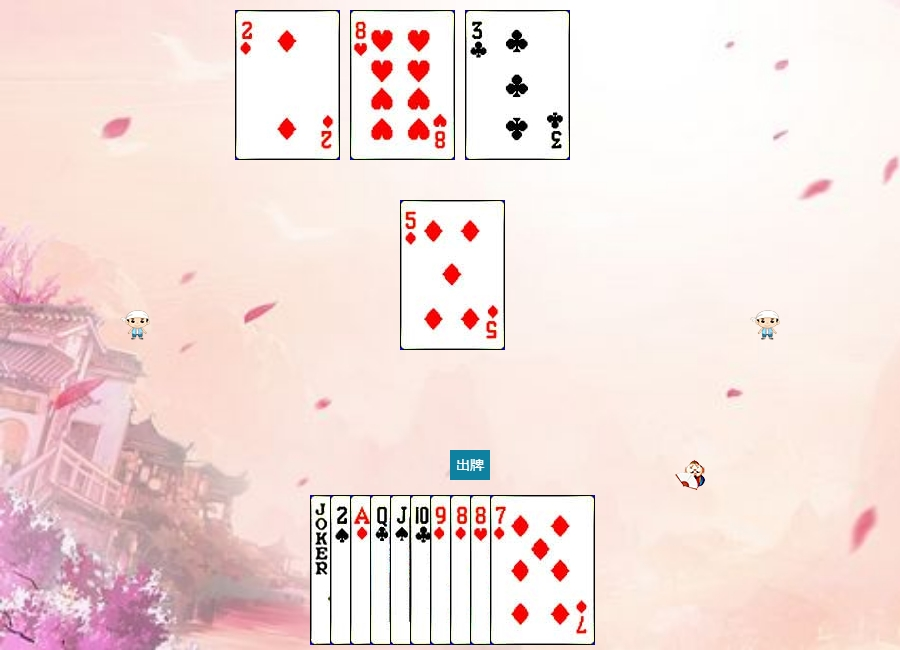10~2: (410, 495, 515, 645)
11~4: (390, 495, 495, 645)
12~2: (370, 495, 475, 645)
14~1: (350, 495, 455, 645)
15~1: (235, 10, 340, 160)
15~4: (330, 495, 435, 645)
17~3: (310, 495, 415, 645)
3~2: (465, 10, 570, 160)
5~1: (400, 200, 505, 350)
7~1: (490, 495, 595, 645)
8~1: (450, 495, 555, 645)
8~3: (350, 10, 455, 160), (470, 495, 575, 645)
9~1: (430, 495, 535, 645)
